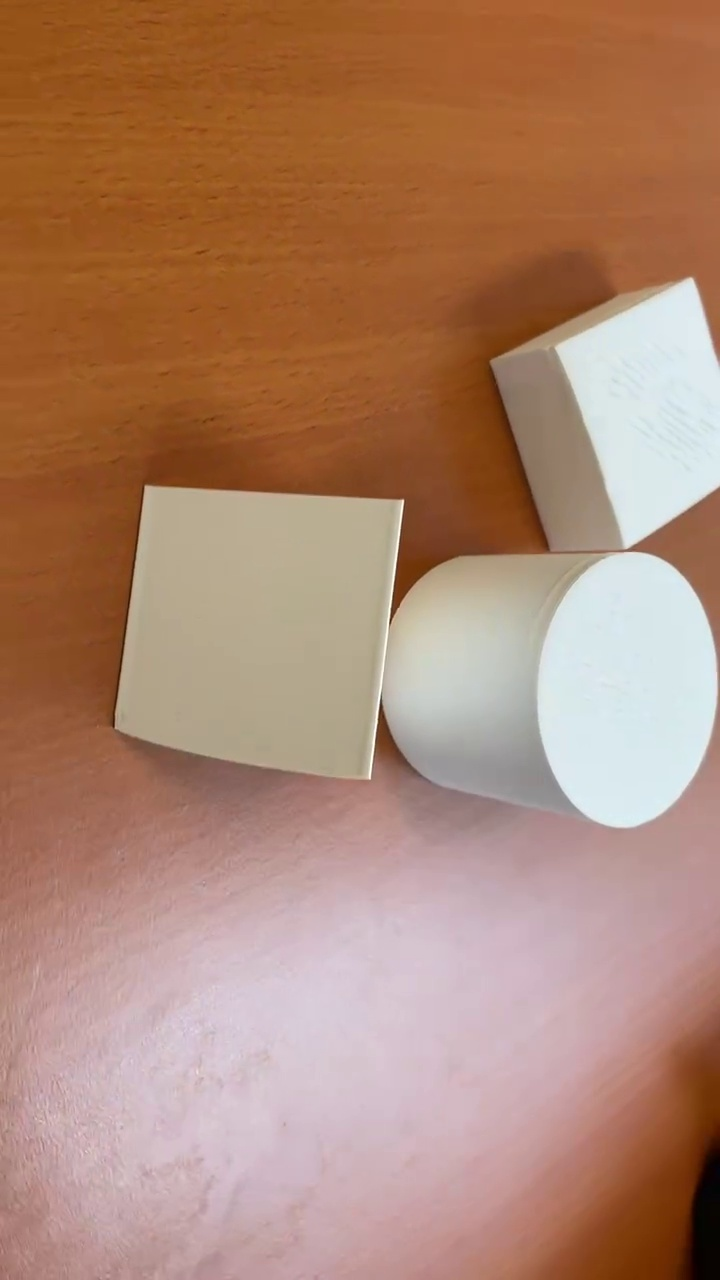Cube_short: (479, 275, 716, 550)
Cylinder: (374, 546, 720, 827)
Triangle: (113, 482, 405, 779)
